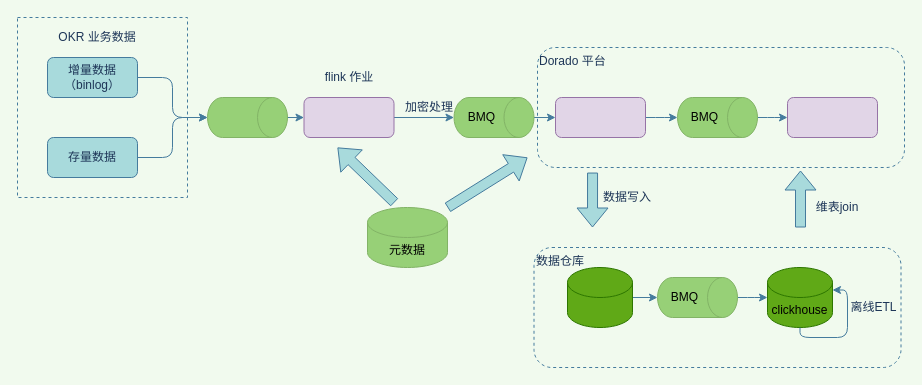
Image size: 922x385. Some labels were removed from this diagram. Here are the shapes that lost their labels. From the top down, the centre of each, then its label:
At (247,117): "dbus".
At (348,117): "binlog dispatcher".
At (600,117): "Flink ETL任务".
At (832,117): "Sink 任务".
At (599,297): "Mysql".
